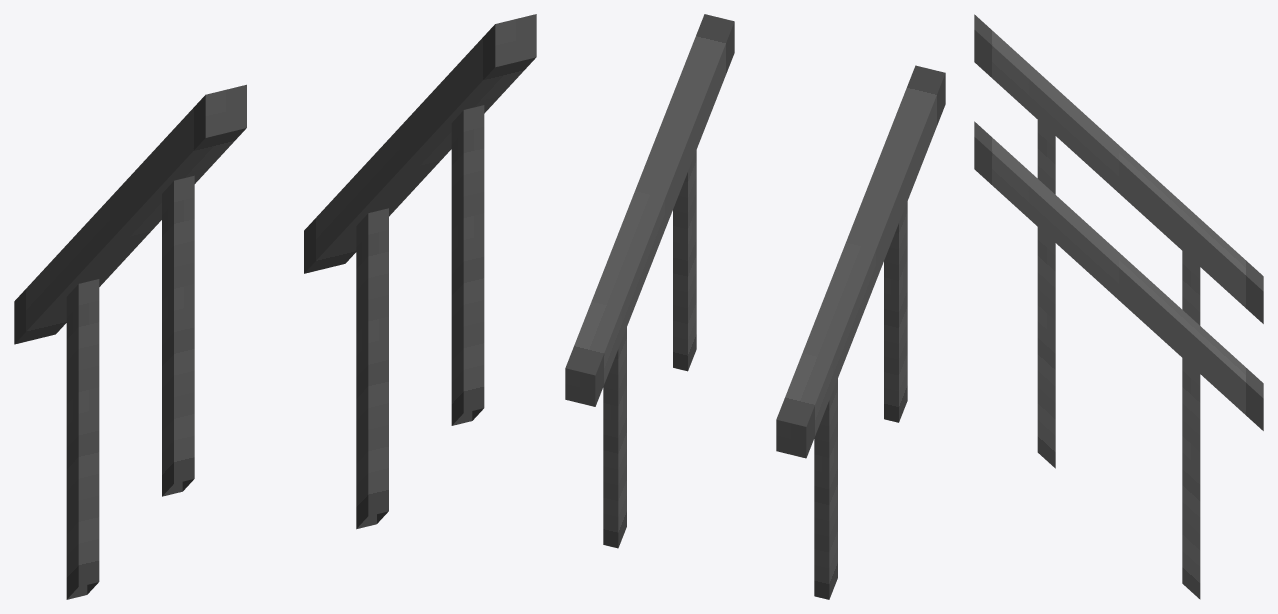
The model's file is steel_catwalk_stairs_railing.obj.
3 views of the same model, side by side, from view 1: azimuth 30°, elevation 25°; view 2: azimuth 150°, elevation 25°; view 3: azimuth 270°, elevation 25° (orthographic). The views are drawn at different scales.
Visible parts, largest first — view 1: railing2, railing1, pole1, pole3, pole2, pole4; view 2: railing1, railing2, pole2, pole1, pole3, pole4; view 3: railing1, railing2, pole4, pole1, pole3, pole2.
Boxes of the visible parts, left/top/right/bottom form: railing2: left=304, top=14, right=536, bottom=273; railing1: left=14, top=84, right=246, bottom=344; pole1: left=451, top=105, right=484, bottom=425; pole3: left=66, top=279, right=99, bottom=599; pole2: left=162, top=175, right=194, bottom=496; pole4: left=356, top=208, right=388, bottom=529; railing1: left=776, top=65, right=945, bottom=458; railing2: left=565, top=14, right=734, bottom=406; pole2: left=884, top=201, right=907, bottom=422; pole1: left=673, top=150, right=696, bottom=371; pole3: left=814, top=379, right=837, bottom=599; pole4: left=603, top=327, right=626, bottom=548; railing1: left=974, top=14, right=1263, bottom=323; railing2: left=974, top=121, right=1263, bottom=430; pole4: left=1182, top=358, right=1200, bottom=599; pole1: left=1037, top=227, right=1055, bottom=468; pole3: left=1182, top=251, right=1200, bottom=325; pole2: left=1037, top=120, right=1055, bottom=194.
Size of the model in its own units: 1 by 1.78 by 1.
